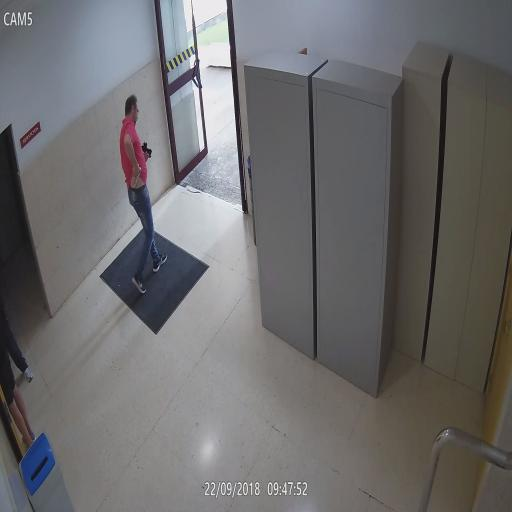Handgun: (132, 162, 142, 192)
